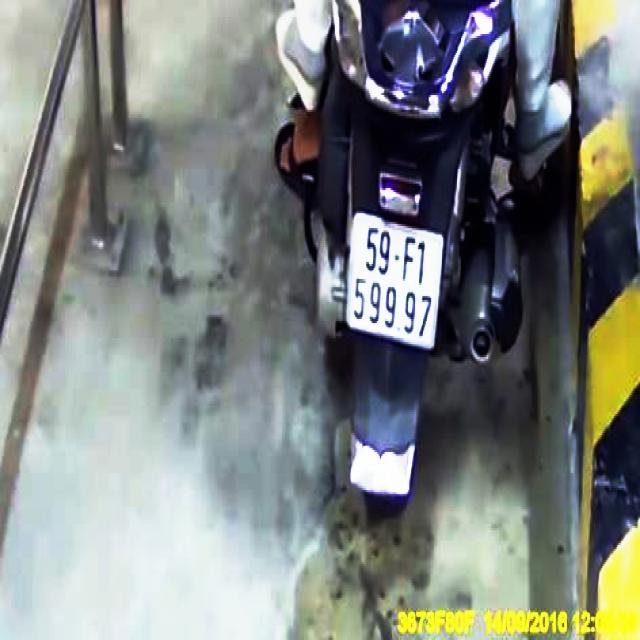license_plate: (346, 214, 445, 349)
